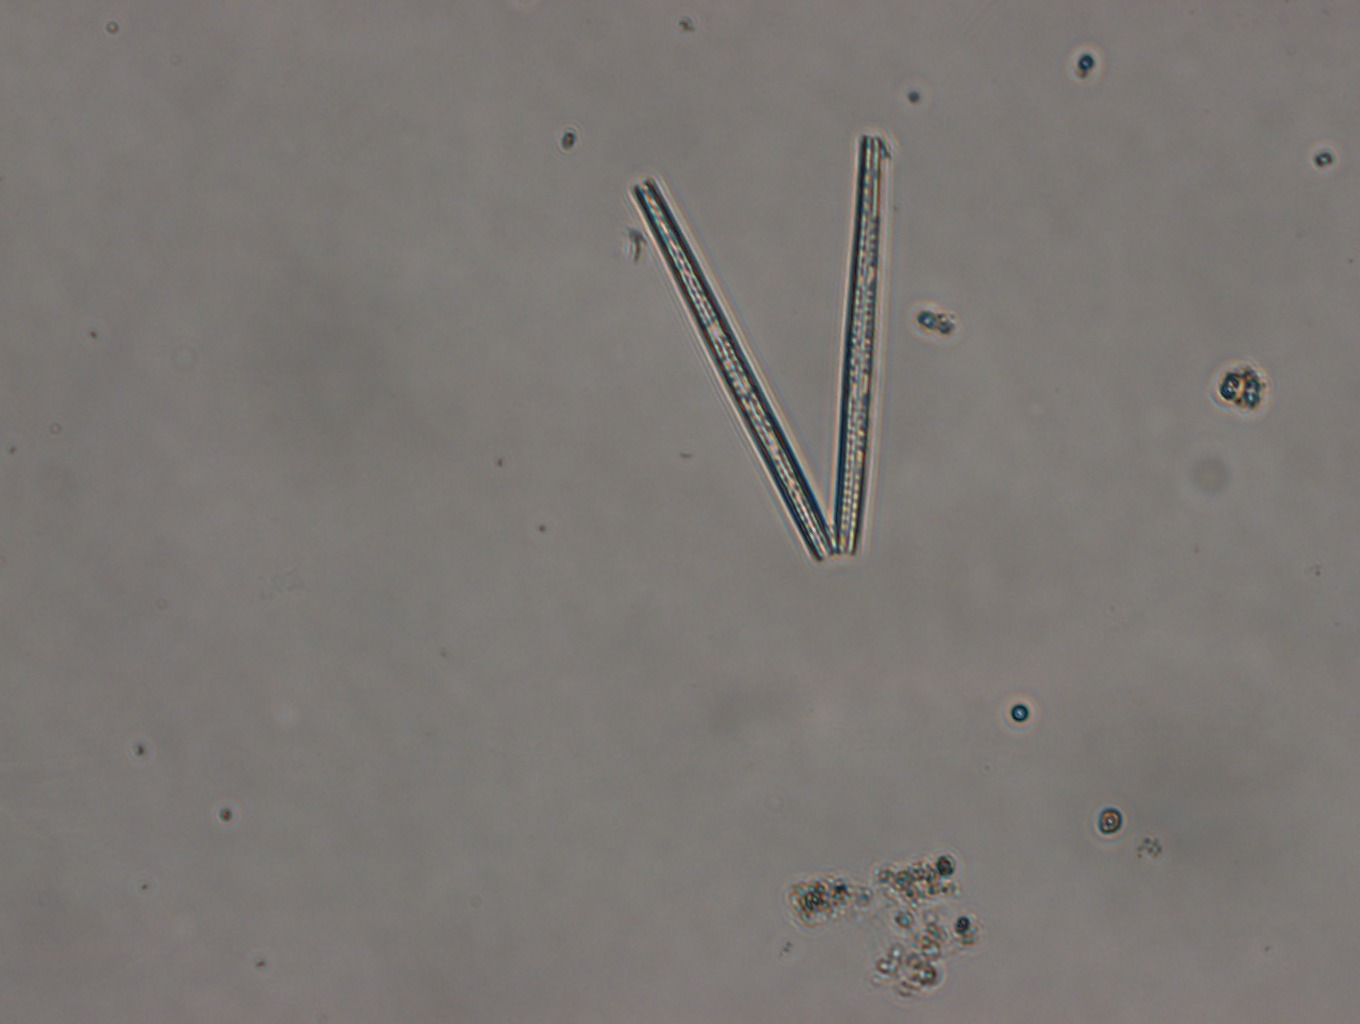thalassionema frauenfeldii: (630, 134, 886, 560)
